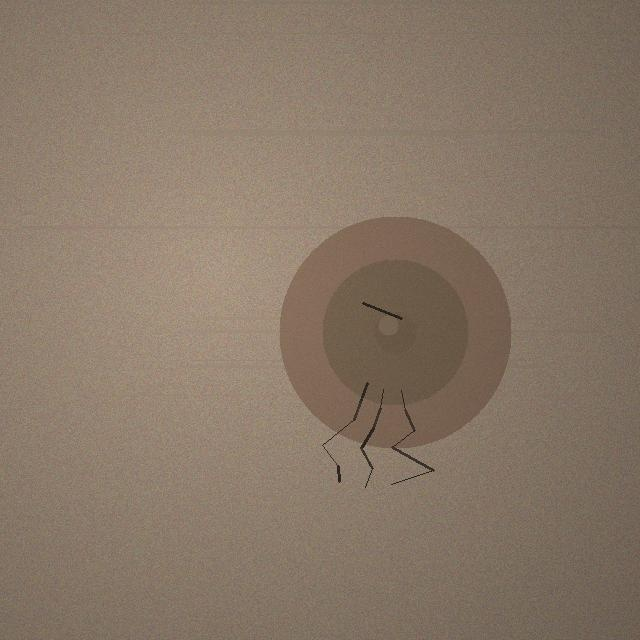crack: (279, 216, 511, 448)
